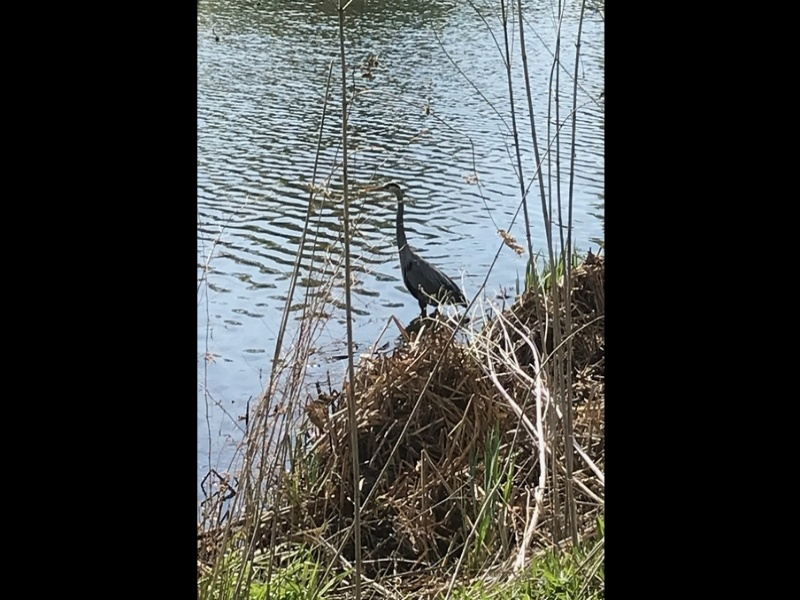heron: (369, 181, 472, 328)
